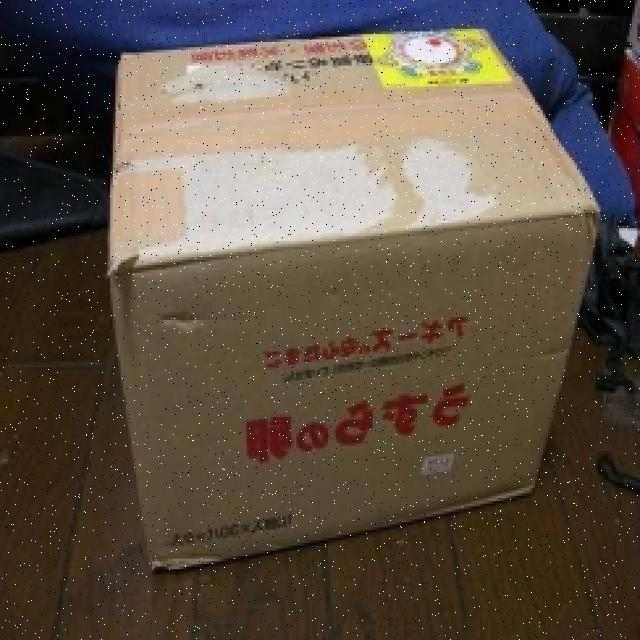box: (87, 12, 591, 605)
